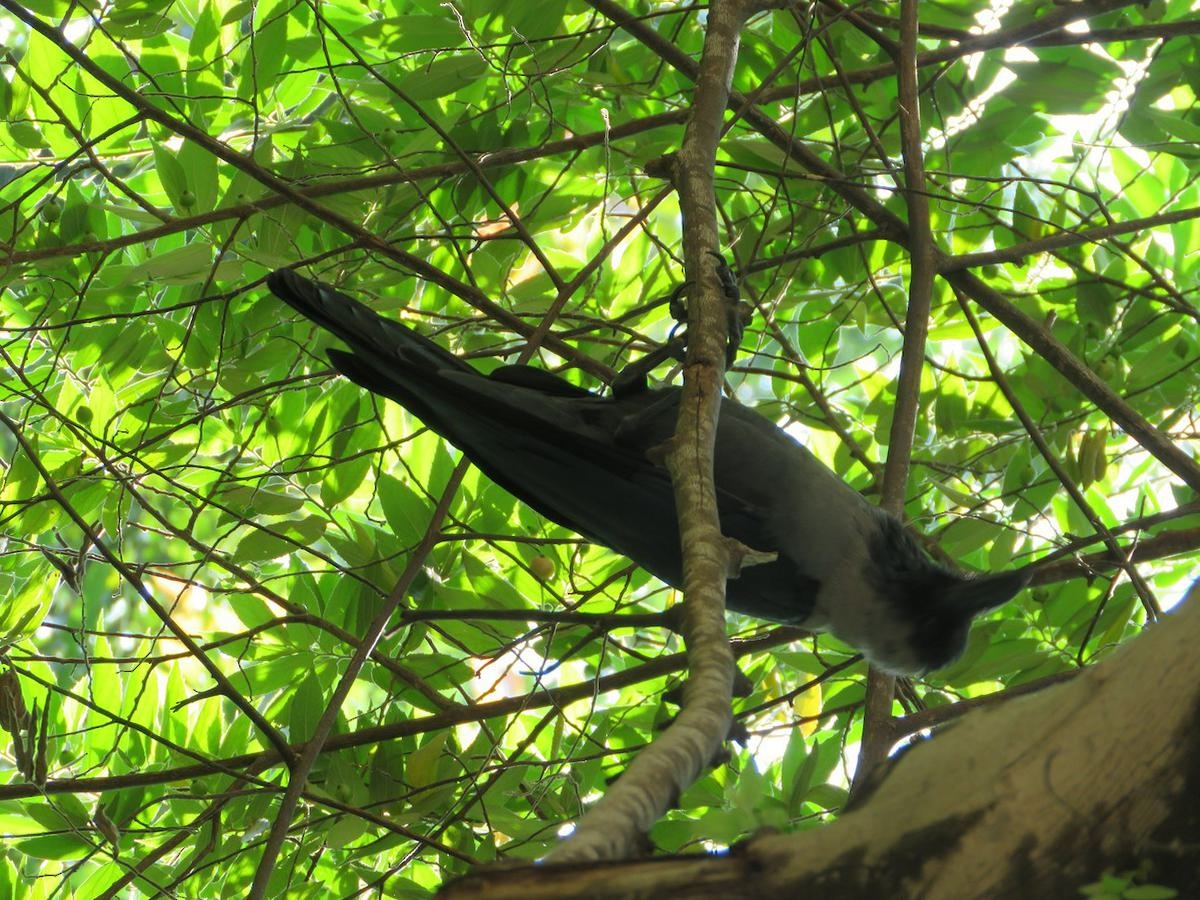crow: (238, 254, 1036, 693)
